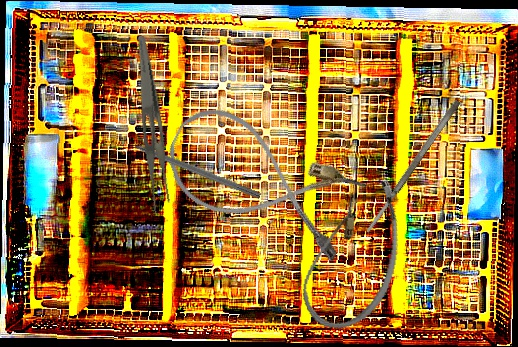Cannula: (152, 95, 372, 269), (294, 167, 413, 339)
Dressing Forceps: (118, 34, 180, 216)
Hook Surgical: (114, 133, 263, 200)
Spatula Surgical: (363, 98, 462, 235)
